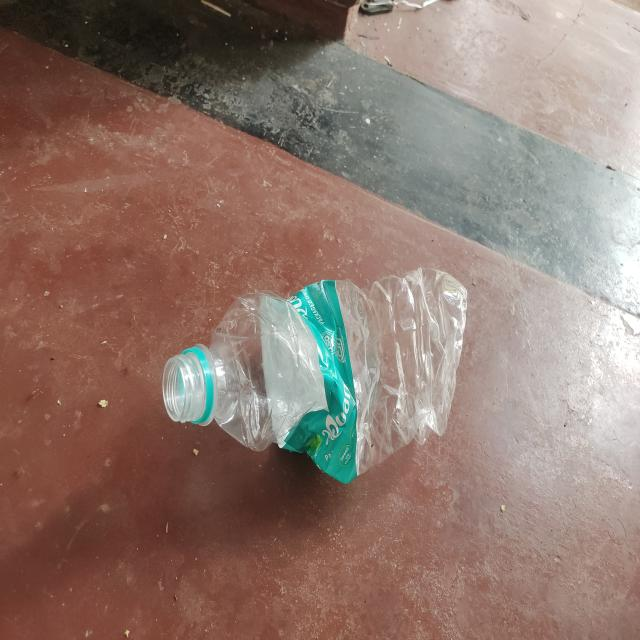plastic: (162, 266, 471, 484)
